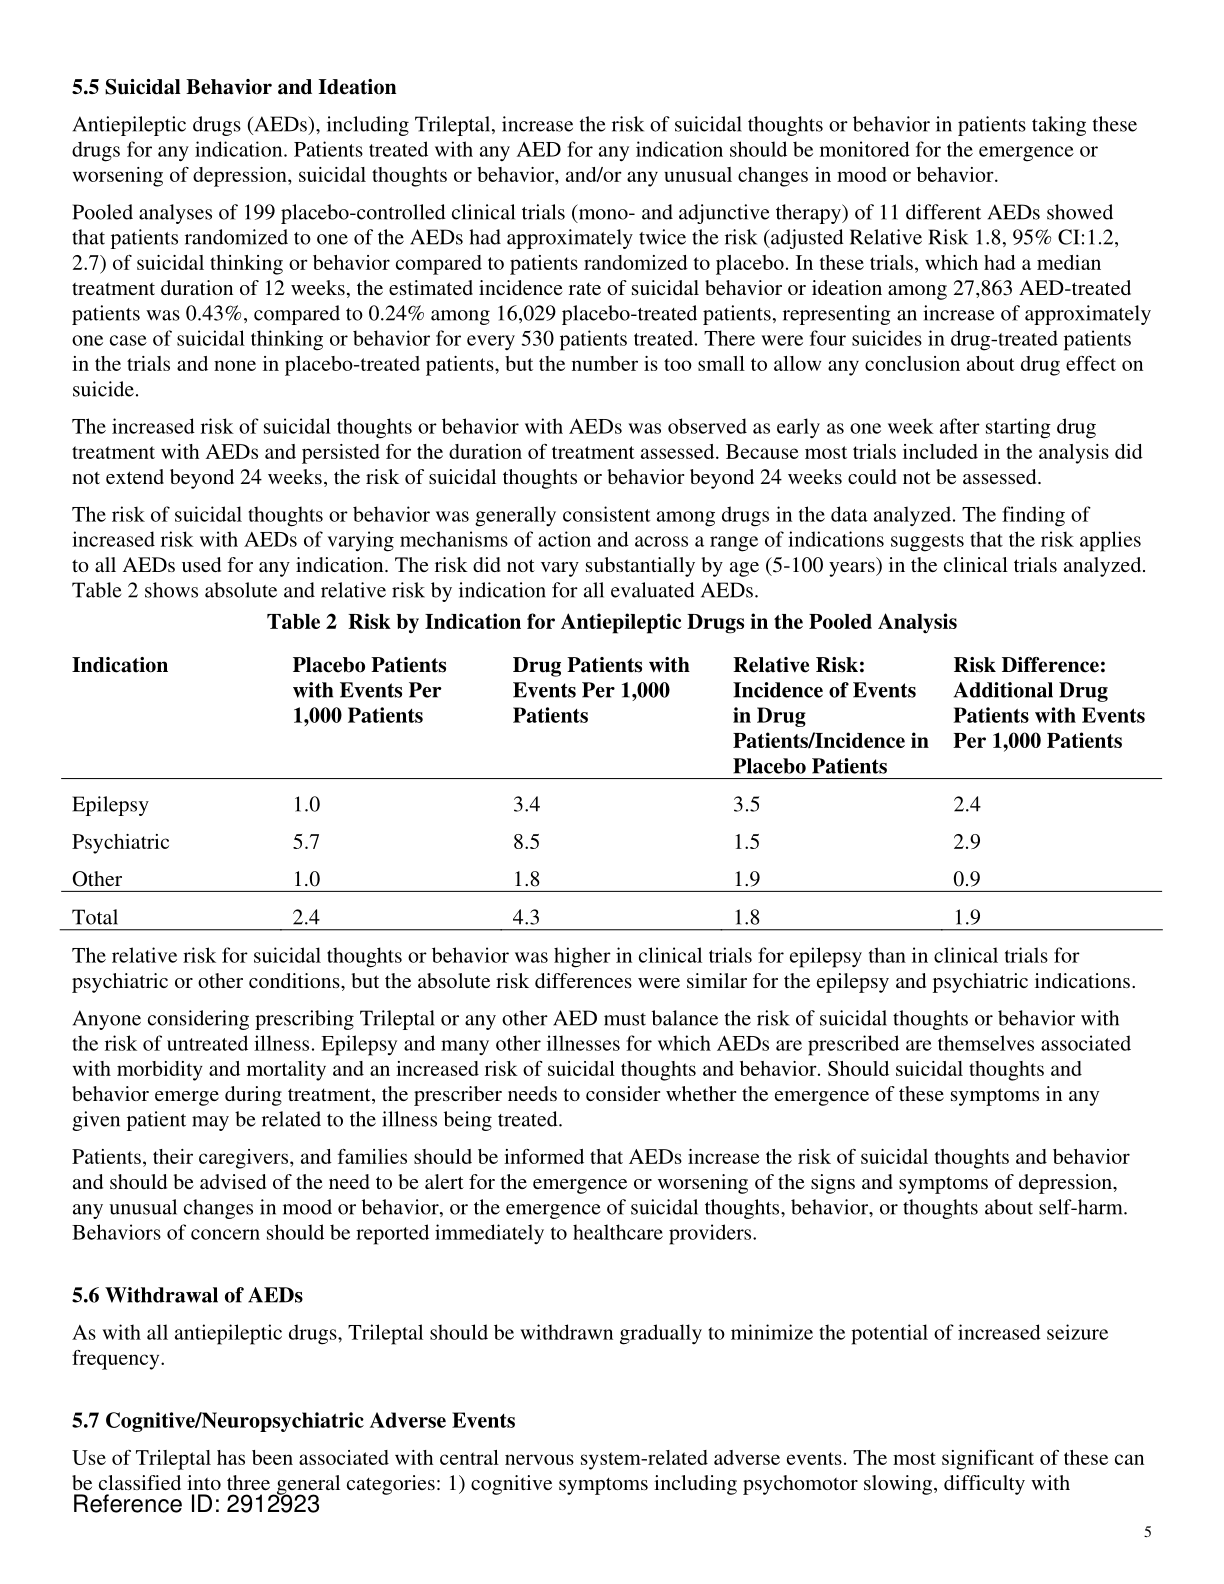partial_lined: (62, 643, 1169, 933)
